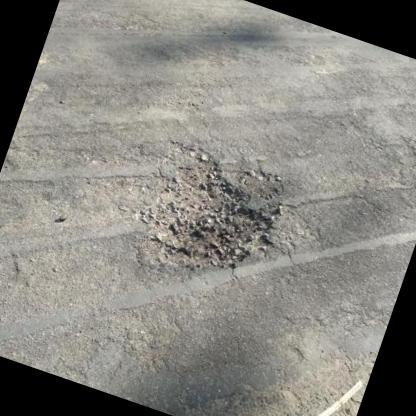pothole: (132, 139, 292, 294)
